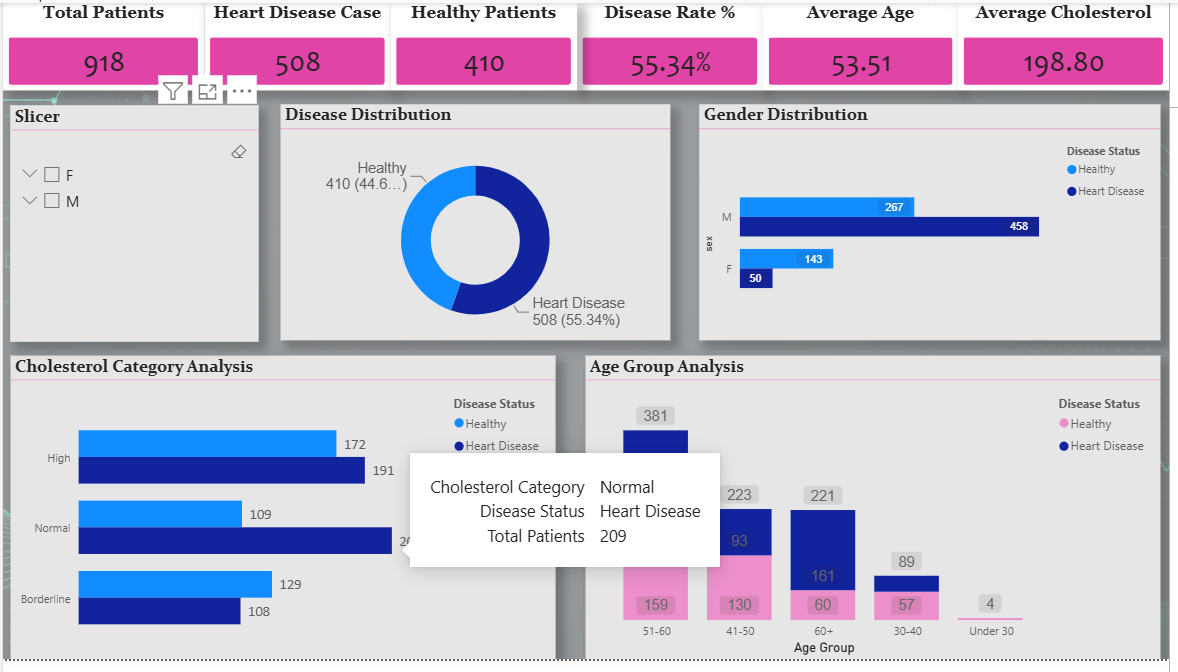

The page's visual inventory and layout, read from the dashboard file:
{"tool":"powerbi","page":{"name":"Executive Overview Dashboard","canvas":[1280,720],"ordinal":0},"visuals":[{"type":"cardVisual","title":"Total Patients","fields":{"Data":["heart_db heart.Total Patients"]},"box":[0,0,220.9,96.1],"z":0},{"type":"cardVisual","title":"Heart Disease Case","fields":{"Data":["heart_db heart.Heart Disease Cases"]},"box":[220.9,0,204.5,96.1],"z":1000},{"type":"cardVisual","title":"Disease Rate %","fields":{"Data":["heart_db heart.Disease Rate %"]},"box":[629.8,0,204.5,96.1],"z":2000},{"type":"cardVisual","title":"Average Age","fields":{"Data":["heart_db heart.Average Age"]},"box":[834.3,0,214.1,96.1],"z":3000},{"type":"cardVisual","title":"Average Cholesterol ","fields":{"Data":["heart_db heart.Average Cholesterol"]},"box":[1048.4,0,231.9,96.1],"z":4000},{"type":"cardVisual","title":"Healthy Patients","fields":{"Data":["heart_db heart.Healthy Patients"]},"box":[425.4,0,204.5,96.1],"z":5000},{"type":"donutChart","title":"Disease Distribution","fields":{"Category":["heart_db heart.Disease Status"],"Y":["heart_db heart.Total Patients"]},"box":[304.6,111.1,428.1,259.3],"z":6000},{"type":"clusteredBarChart","title":"Gender Distribution","fields":{"Category":["heart_db heart.sex"],"Series":["heart_db heart.Disease Status"],"Y":["heart_db heart.Total Patients"]},"box":[764.3,111.1,506.3,259.3],"z":7000},{"type":"columnChart","title":"Age Group Analysis","fields":{"Category":["heart_db heart.Age Group"],"Series":["heart_db heart.Disease Status"],"Y":["heart_db heart.Total Patients"]},"box":[639.5,387,631.2,333.4],"z":8000},{"type":"clusteredBarChart","title":"Cholesterol Category Analysis ","fields":{"Category":["heart_db heart.Cholesterol Category"],"Series":["heart_db heart.Disease Status"],"Y":["heart_db heart.Total Patients"]},"box":[8.2,387,598.3,333.4],"z":9000},{"type":"slicer","title":"Slicer","fields":{"Values":["heart_db heart.sex","heart_db heart.Age Group","heart_db heart.chest_pain_type","heart_db heart.Disease Status"]},"box":[8.2,112.5,271.7,259.3],"z":10000}]}

Visuals, with their boxes in screenshot pixels (x1, y1, x2, y2):
"Total Patients" cardVisual: 3 0 204 87
"Heart Disease Case" cardVisual: 204 0 389 87
"Disease Rate %" cardVisual: 575 0 760 87
"Average Age" cardVisual: 760 0 955 87
"Average Cholesterol " cardVisual: 955 0 1165 87
"Healthy Patients" cardVisual: 389 0 575 87
"Disease Distribution" donutChart: 280 101 668 336
"Gender Distribution" clusteredBarChart: 697 101 1156 336
"Age Group Analysis" columnChart: 583 351 1156 654
"Cholesterol Category Analysis " clusteredBarChart: 11 351 554 654
"Slicer" slicer: 11 102 257 337
